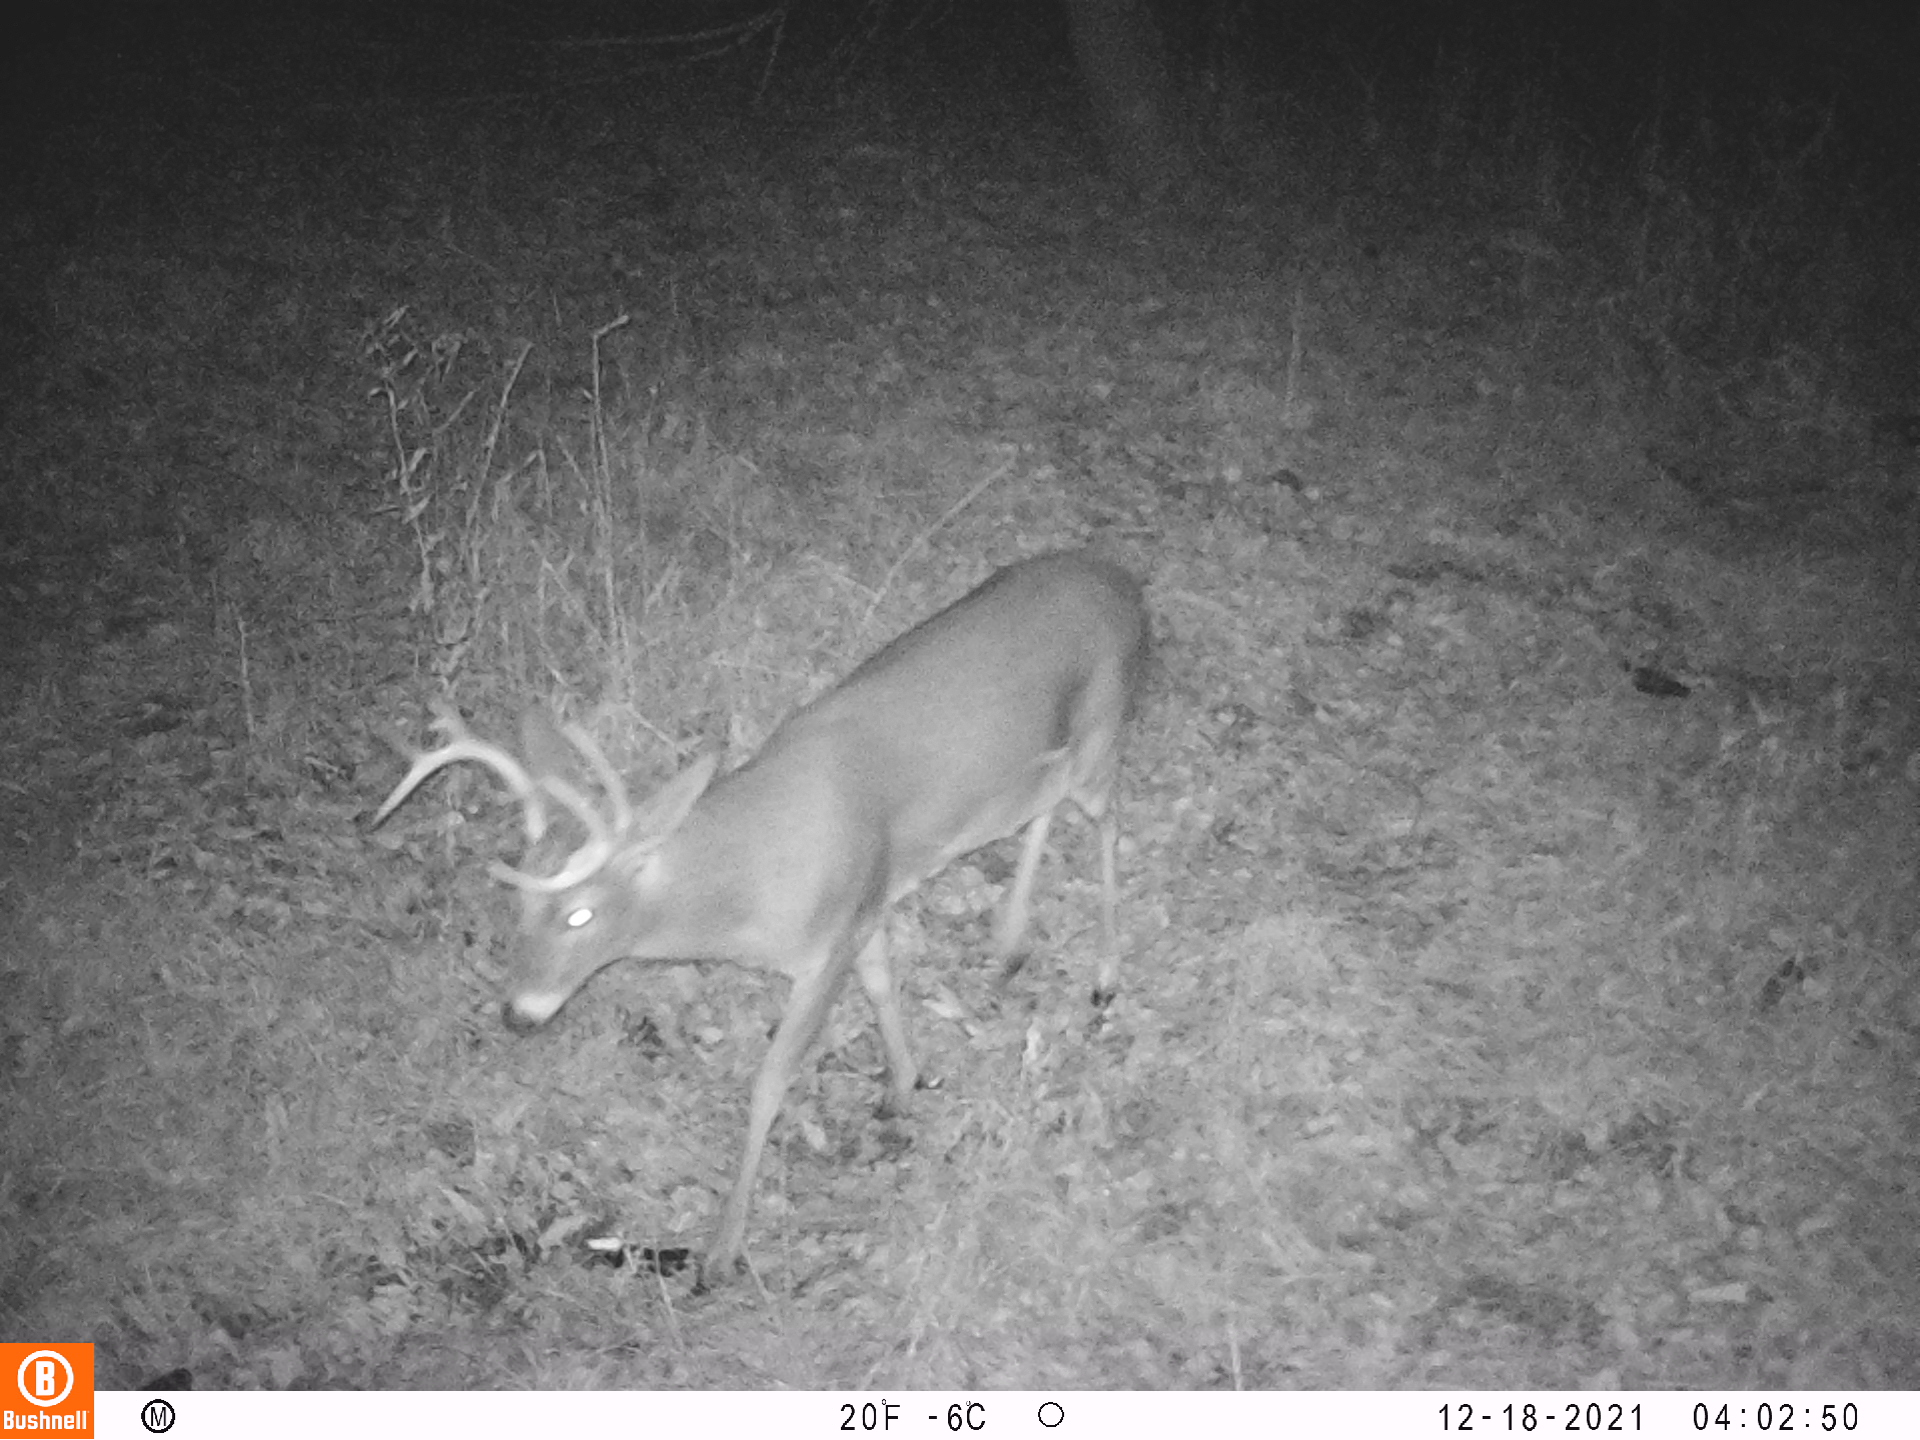DeerBuck: (361, 547, 1150, 1286)
DeerBuckHead: (358, 686, 723, 1039)
